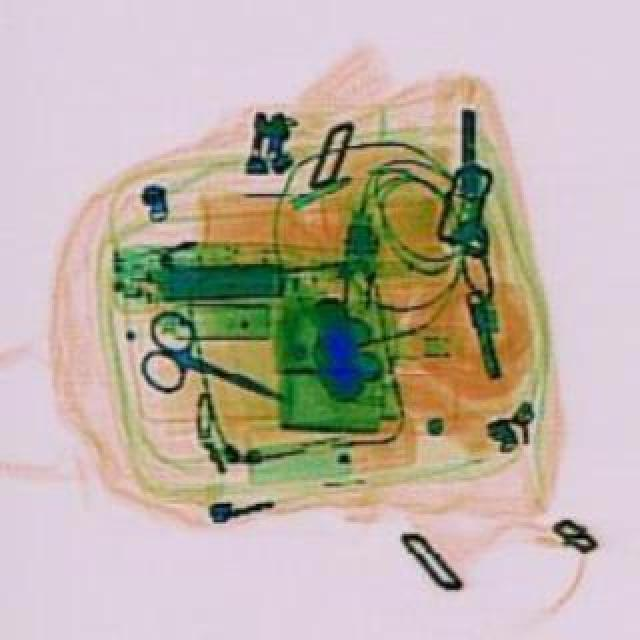pliers: (122, 302, 298, 434)
